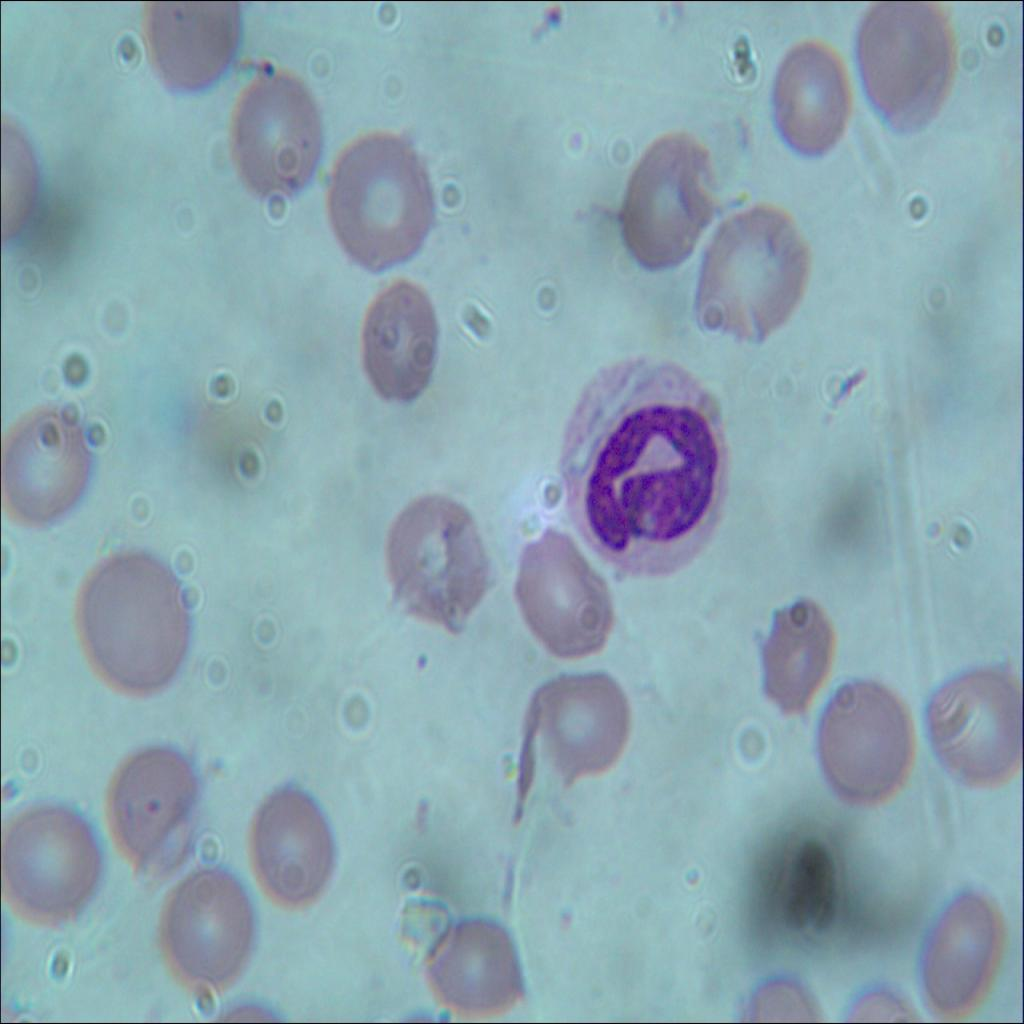Eritrosit: (73, 544, 190, 704), (223, 67, 326, 219), (693, 205, 806, 337), (906, 881, 1009, 1021), (615, 129, 716, 271), (158, 856, 258, 998), (504, 522, 610, 655), (850, 0, 960, 128), (810, 674, 913, 808), (412, 908, 530, 1023), (2, 799, 104, 931), (322, 136, 428, 262), (381, 498, 488, 619), (923, 657, 1021, 785), (0, 401, 93, 532), (358, 284, 444, 410), (141, 0, 249, 98), (766, 34, 844, 168), (251, 788, 338, 908), (539, 678, 631, 788), (746, 598, 836, 710), (113, 754, 203, 864)
Neutrofil: (556, 352, 730, 578)
Platelet: (253, 52, 286, 95), (402, 648, 435, 684), (536, 0, 563, 26)
